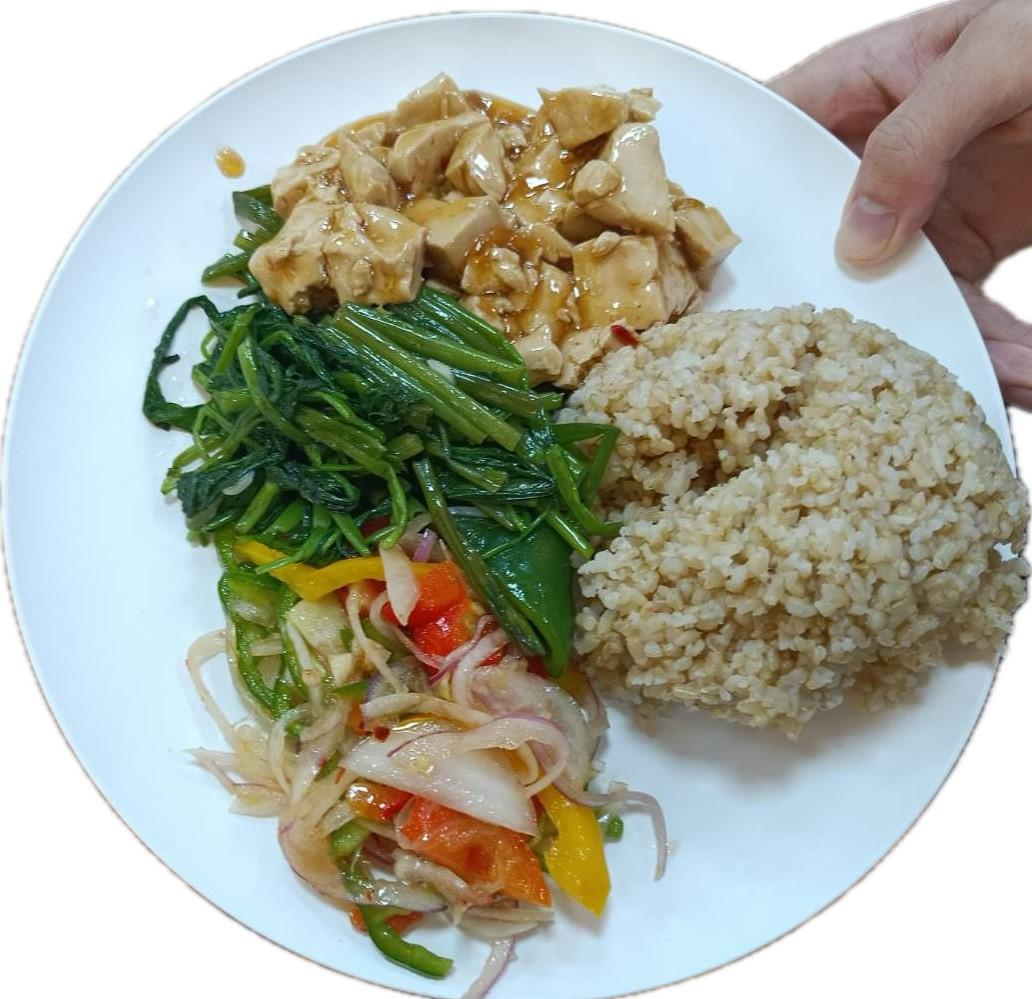big fried chicken leg: (0, 12, 1032, 999)
box: (574, 302, 1027, 727)
braised fish fillet: (144, 274, 592, 660), (216, 558, 615, 963), (240, 74, 738, 368)
